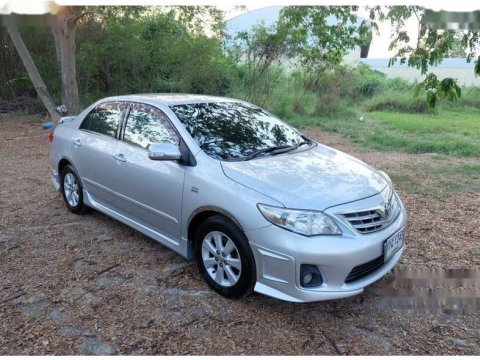sedan: (47, 91, 407, 306)
